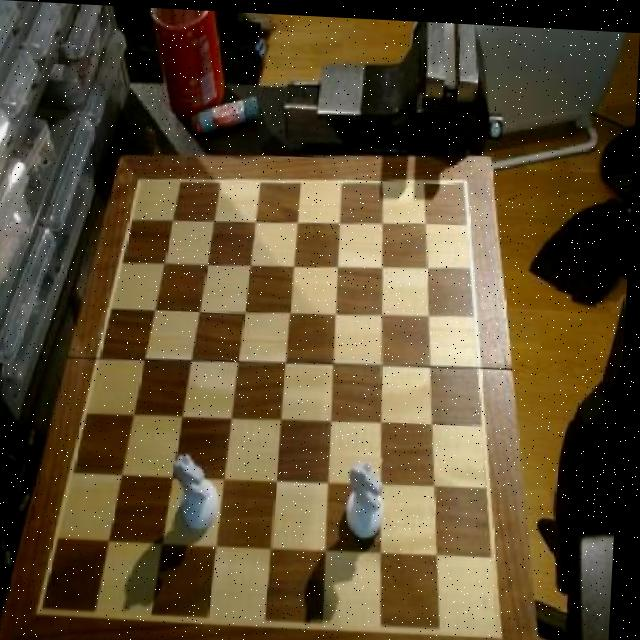white-king: (176, 446, 227, 530), (347, 452, 395, 536)
